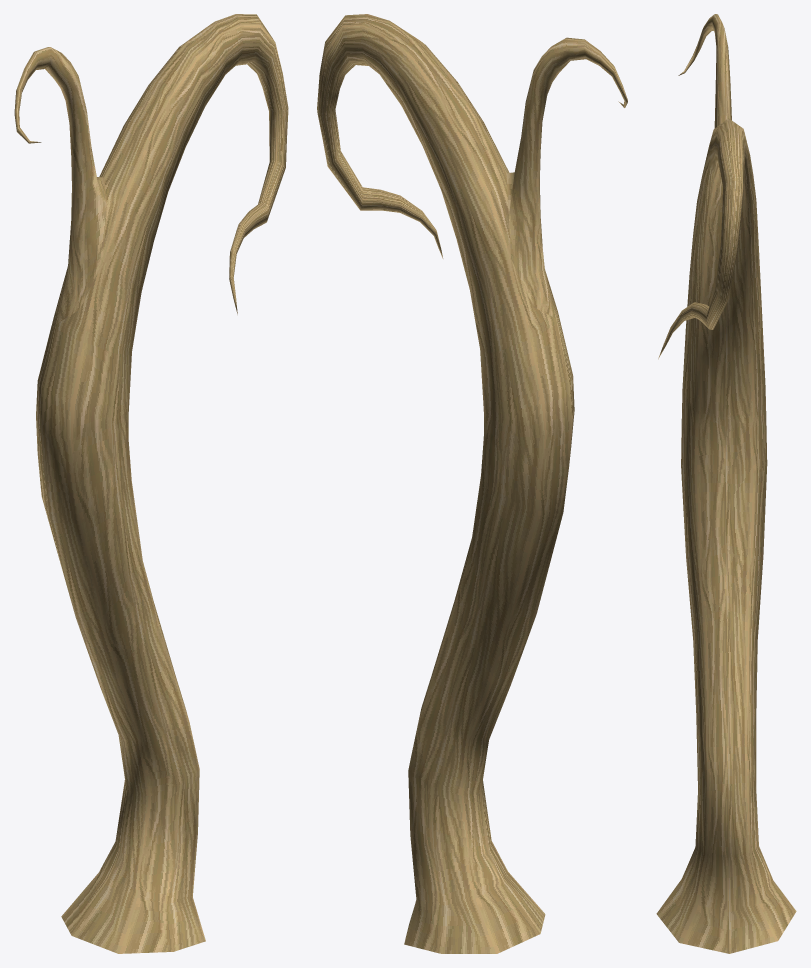
File: EKH_BARRELROOM_PS_JA1_TREE05.fbx
The picture shows the model from 3 angles, left to right: view 1: azimuth 30°, elevation 25°; view 2: azimuth 150°, elevation 25°; view 3: azimuth 270°, elevation 25°; orthographic projection. The views are drawn at different scales.
Visible parts, largest first — view 1: EKH_BARRELROOM_PS_JA1_TREE05; view 2: EKH_BARRELROOM_PS_JA1_TREE05; view 3: EKH_BARRELROOM_PS_JA1_TREE05.
Boxes of the visible parts, x1,y1,x2,y2 form: EKH_BARRELROOM_PS_JA1_TREE05: (14,14,288,953); EKH_BARRELROOM_PS_JA1_TREE05: (317,14,627,953); EKH_BARRELROOM_PS_JA1_TREE05: (656,14,796,953).
Size of the model in its own units: 23948 by 72381 by 10657.
Materials: 1 (1 with a texture image).
